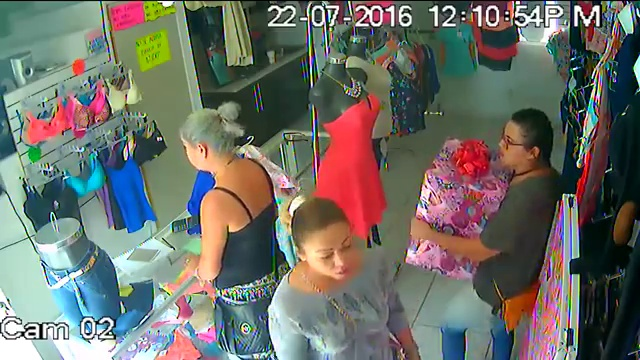face: (305, 237, 359, 283), (496, 126, 531, 165)
